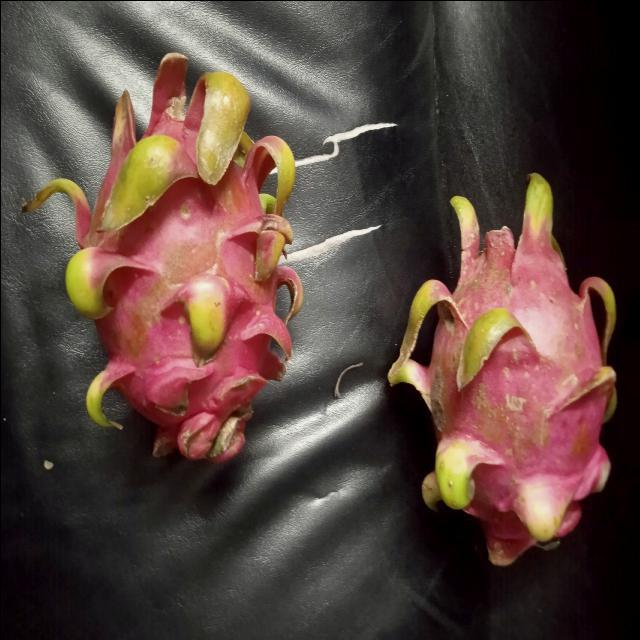do: (34, 52, 303, 470), (386, 168, 615, 574)
